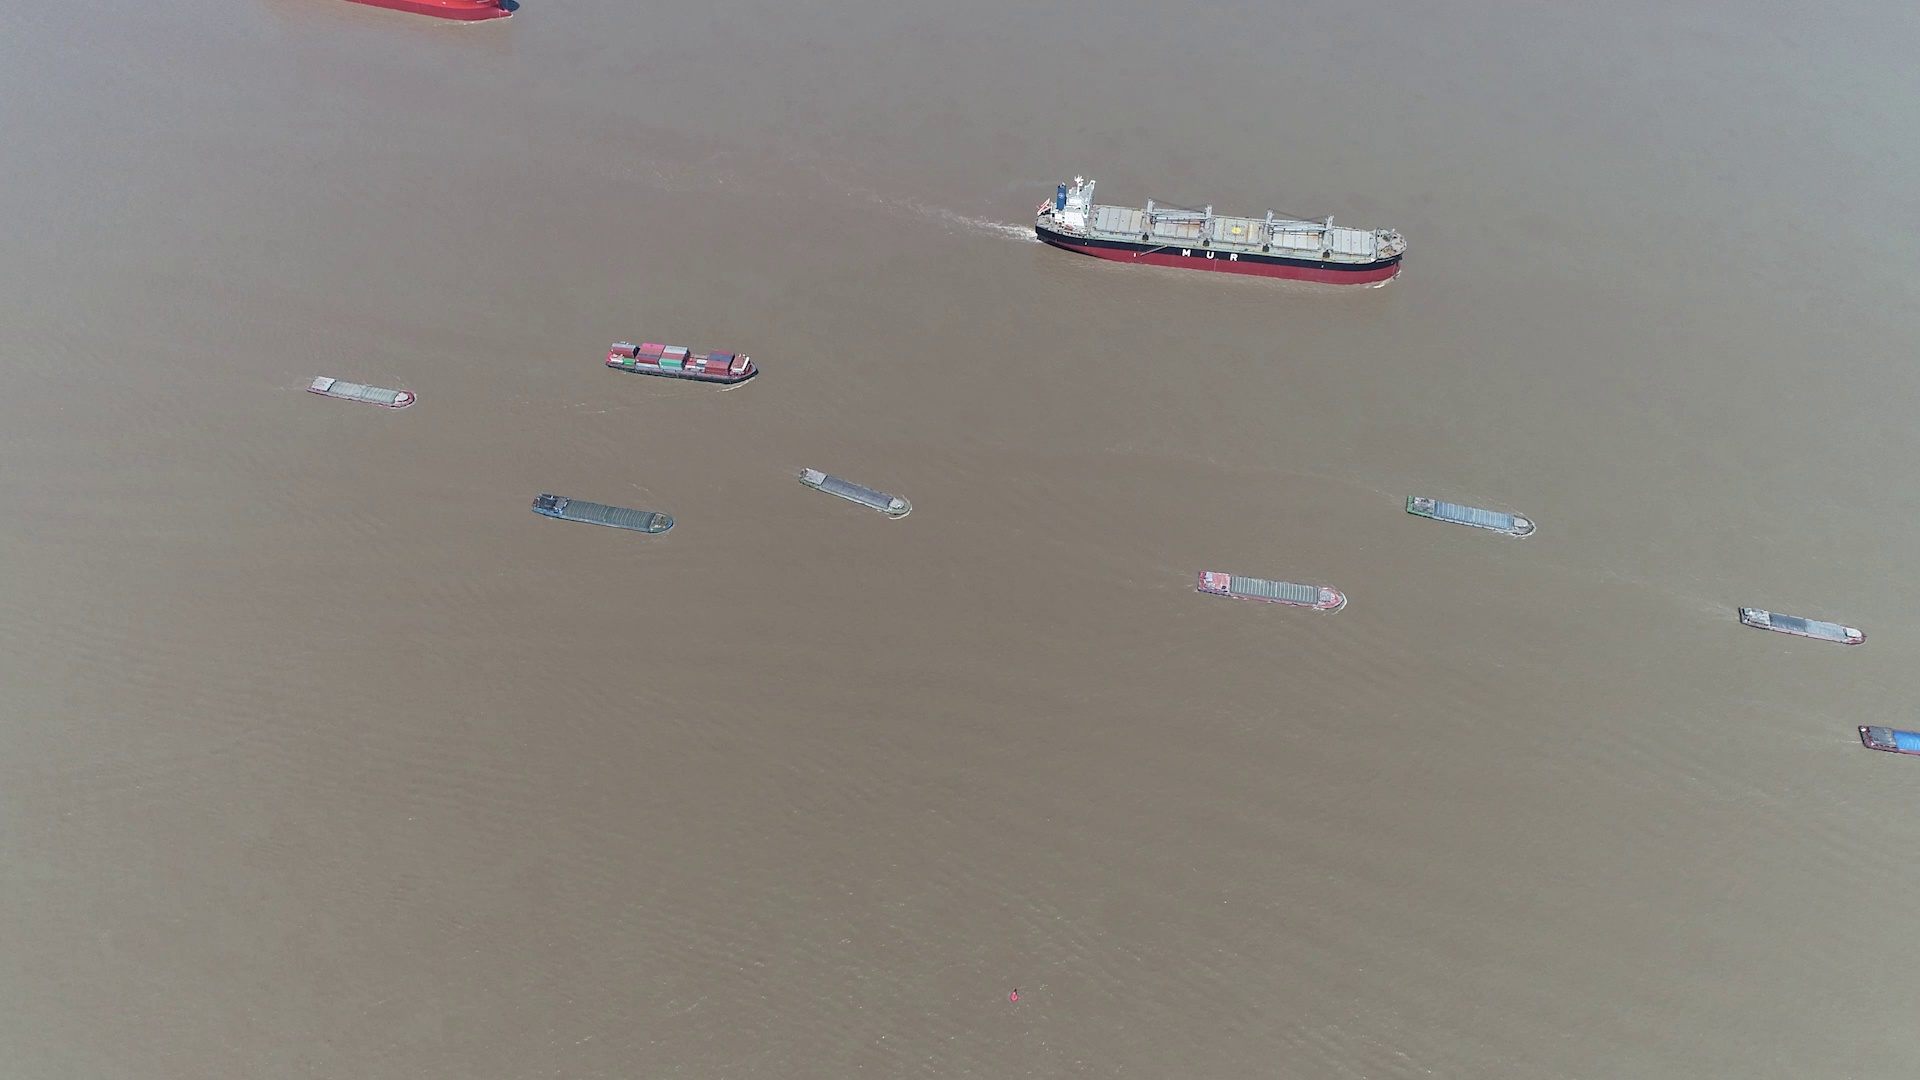ship: (1039, 182, 1404, 284), (607, 339, 761, 382), (530, 495, 676, 537), (1197, 570, 1348, 611), (799, 467, 913, 520), (1404, 495, 1534, 539), (1735, 605, 1866, 647), (306, 375, 415, 409), (1857, 723, 1920, 756)
